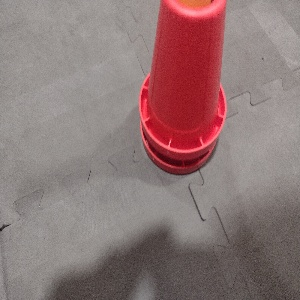Red_2: (138, 0, 226, 174)
